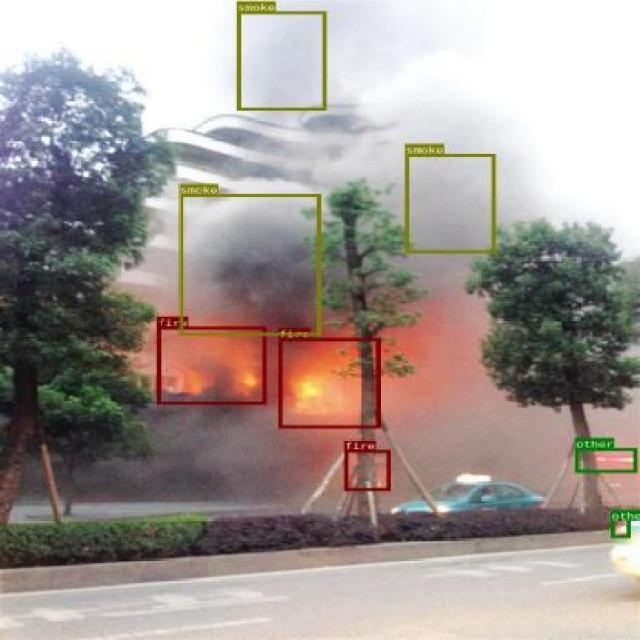Fire: (278, 338, 380, 427), (157, 326, 266, 404), (344, 449, 388, 491)
Smoke: (179, 194, 319, 336), (404, 154, 496, 252), (237, 10, 326, 110)
